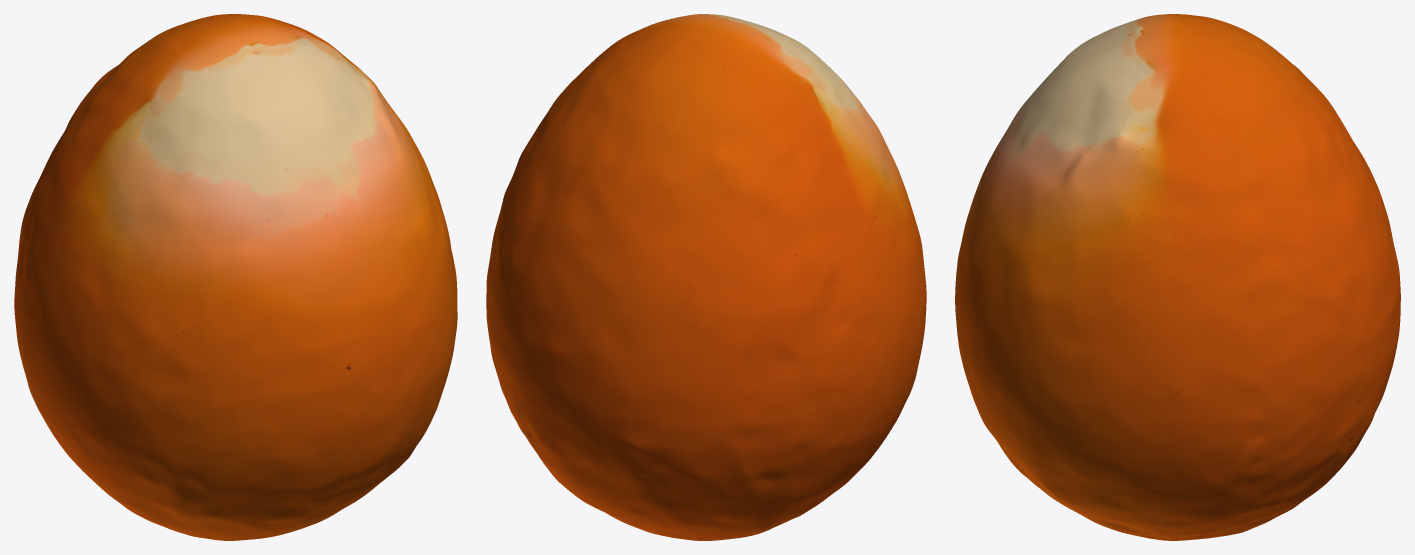
3 views of the same model, side by side, from view 1: azimuth 30°, elevation 25°; view 2: azimuth 150°, elevation 25°; view 3: azimuth 270°, elevation 25° (orthographic).
Visible parts, largest first — view 1: tmp6zpm8zyp.ply; view 2: tmp6zpm8zyp.ply; view 3: tmp6zpm8zyp.ply.
Part boxes in pixels (left/top/right/bottom): tmp6zpm8zyp.ply: left=14, top=14, right=457, bottom=540; tmp6zpm8zyp.ply: left=486, top=14, right=926, bottom=540; tmp6zpm8zyp.ply: left=955, top=14, right=1400, bottom=540.
Bounding box in the file's own units: 1.59 × 1.96 × 1.6.
Materials: 1 (1 with a texture image).
